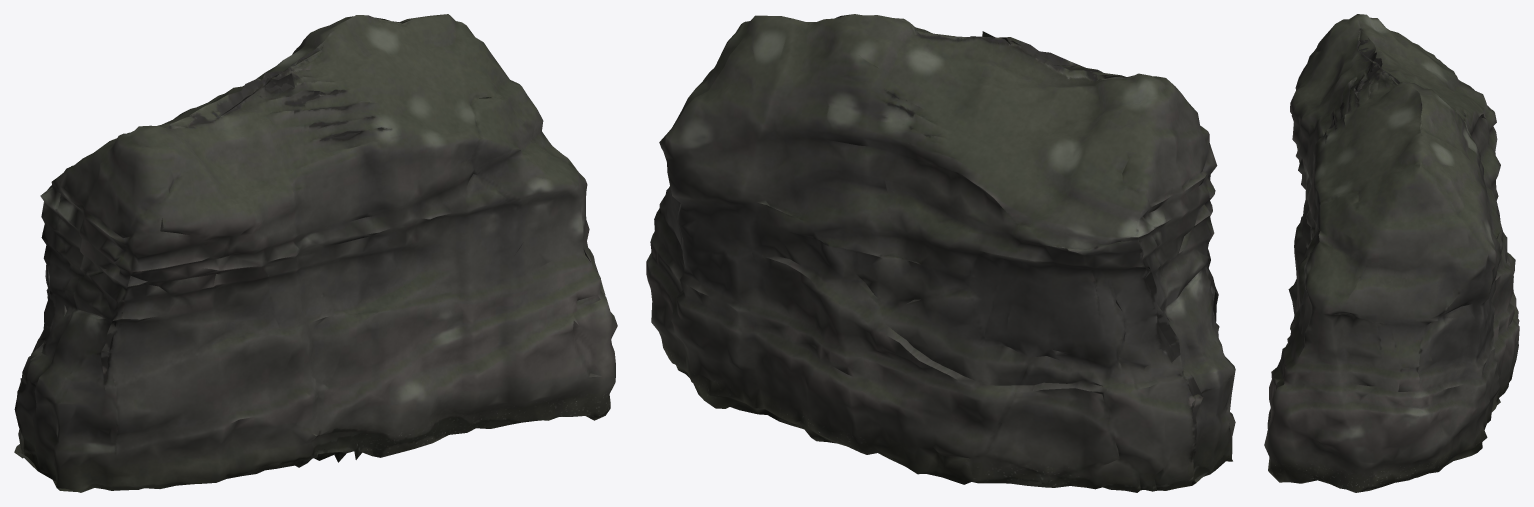
The model's file is cliff_wall.glb.
The picture shows the model from 3 angles, left to right: view 1: azimuth 30°, elevation 25°; view 2: azimuth 150°, elevation 25°; view 3: azimuth 270°, elevation 25°; orthographic projection. The views are drawn at different scales.
Parts seen in each view (by area): view 1: cliff_wall; view 2: cliff_wall; view 3: cliff_wall.
Boxes of the visible parts, bbox=[...] form: cliff_wall: bbox=[14, 14, 617, 492]; cliff_wall: bbox=[646, 14, 1235, 492]; cliff_wall: bbox=[1264, 14, 1519, 492].
Size of the model in its own units: 15.37 by 10.27 by 7.4.
1 material, 1 textured.
